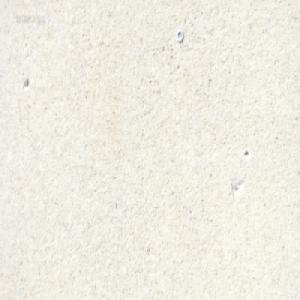Washer: (175, 28, 183, 43)
